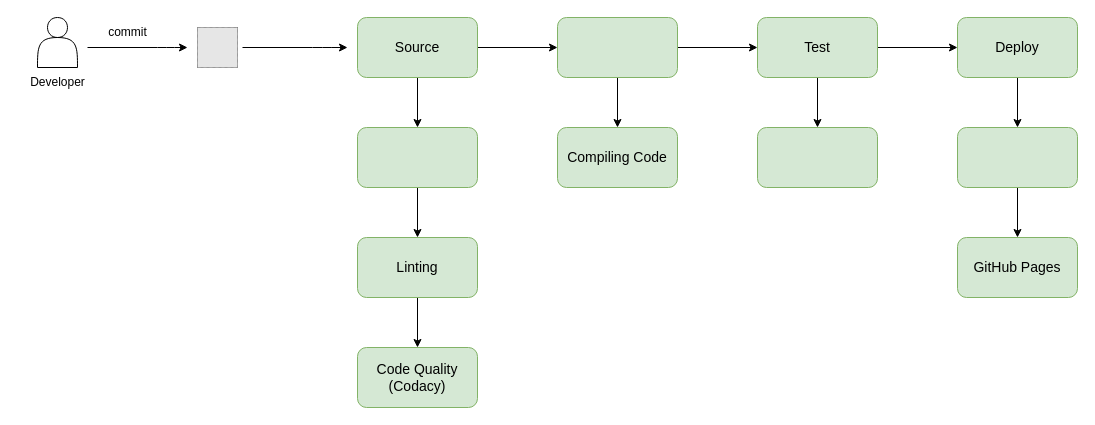
Image size: 1095x425. Some labels were removed from this diagram. Grey dashed boxes stand in for pictures. Here are the shapes that lost their labels. From the top down, the centre of each, then its label:
(x=617, y=47): Build
(x=417, y=157): Branch Protection
(x=817, y=157): Unit Testing (Jest)
(x=1017, y=157): Merge With Main Branch
